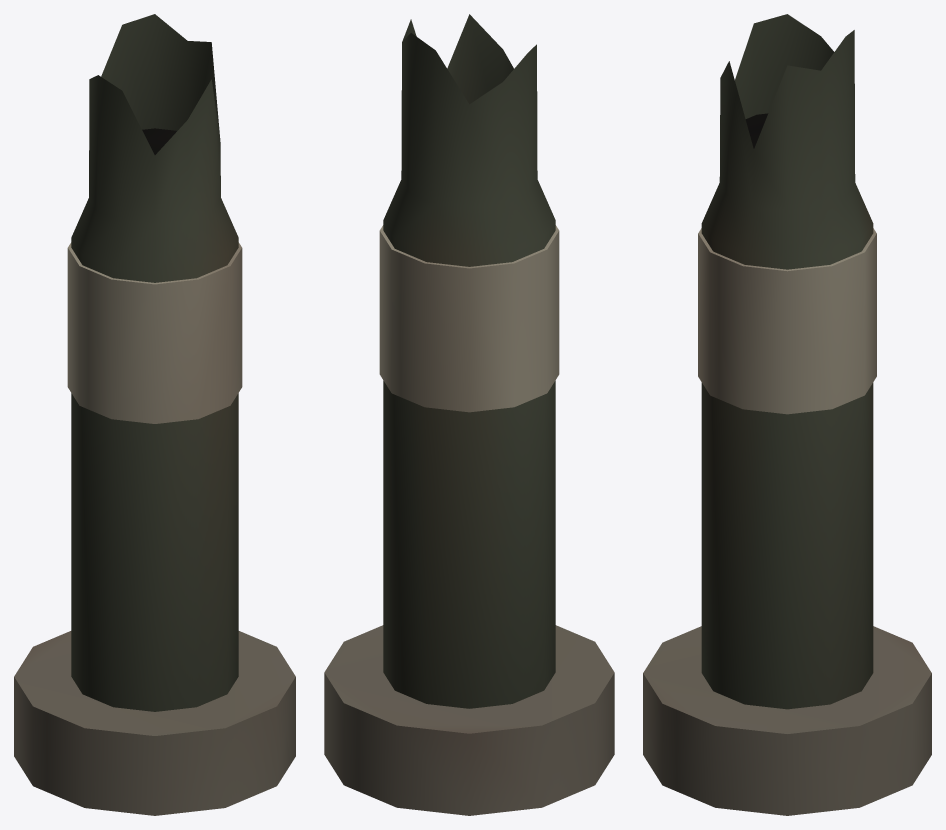
File: poste_tendido_partido.glb
3 renders of one model, left to right at view 1: azimuth 30°, elevation 25°; view 2: azimuth 150°, elevation 25°; view 3: azimuth 270°, elevation 25°, orthographic. The views are drawn at different scales.
Visible parts, largest first — view 1: poste_tendido_partido.001; view 2: poste_tendido_partido.001; view 3: poste_tendido_partido.001.
Part boxes in pixels (x1,y1,x2,y2): poste_tendido_partido.001: [14, 14, 295, 815]; poste_tendido_partido.001: [324, 14, 614, 815]; poste_tendido_partido.001: [643, 14, 931, 815].
Size of the model in its own units: 0.64 by 1.79 by 0.64.
